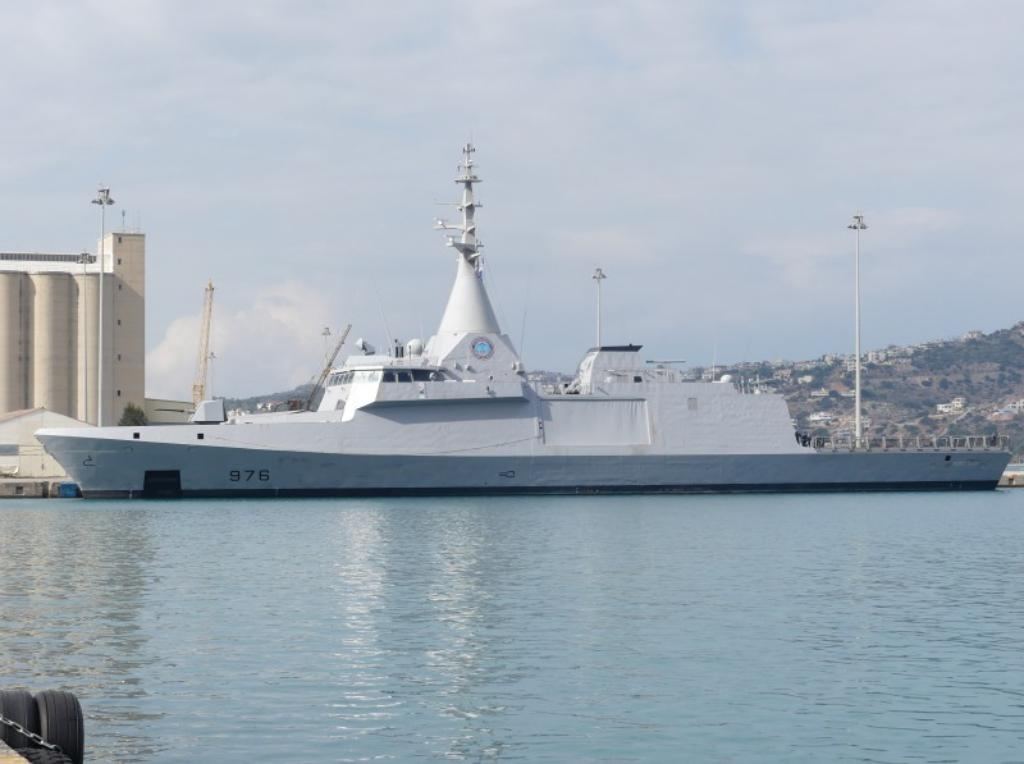Warship: (35, 136, 1011, 500)
